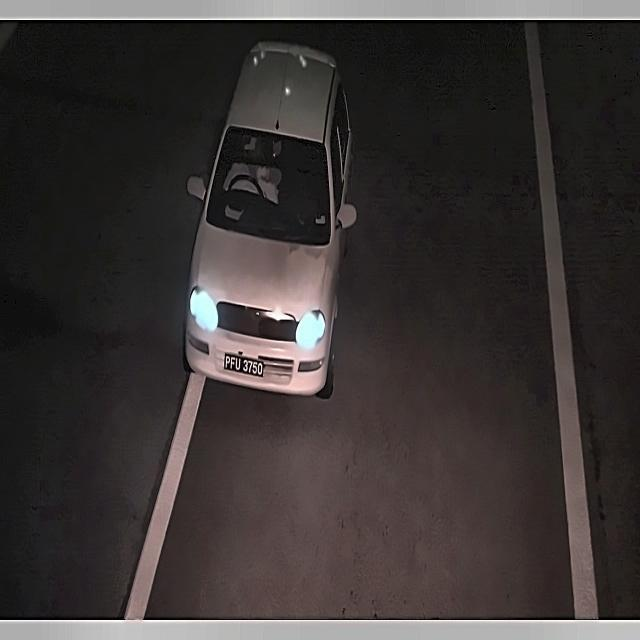car: (220, 344, 268, 385)
